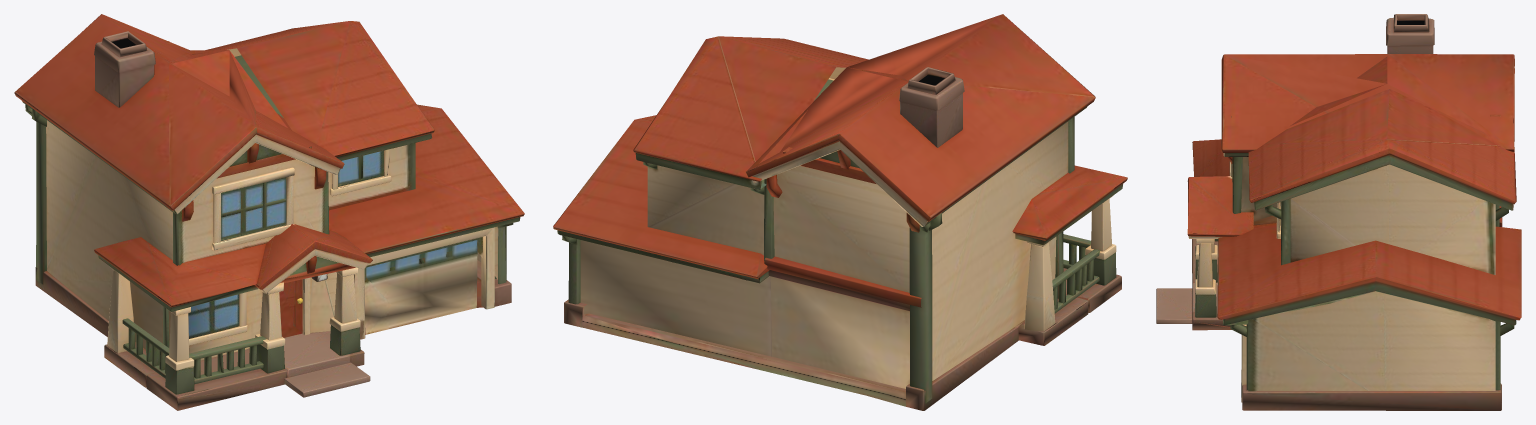
The model's file is house.glb.
3 renders of one model, left to right at view 1: azimuth 30°, elevation 25°; view 2: azimuth 150°, elevation 25°; view 3: azimuth 270°, elevation 25°, orthographic. The views are drawn at different scales.
Visible parts, largest first — view 1: geometry_0; view 2: geometry_0; view 3: geometry_0.
Boxes of the visible parts, x1=… form: geometry_0: x1=14, y1=14, x2=524, y2=410; geometry_0: x1=553, y1=14, x2=1127, y2=410; geometry_0: x1=1156, y1=14, x2=1521, y2=410.
Size of the model in its own units: 0.9492 by 0.6641 by 0.8638.
1 material, 1 textured.
